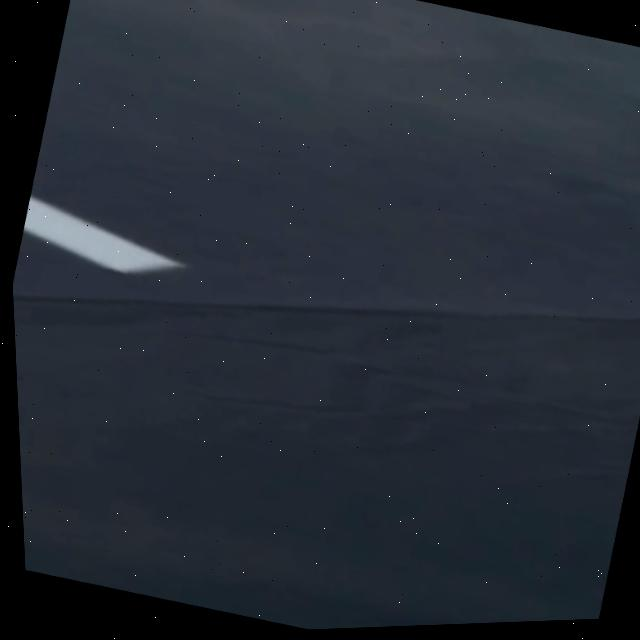center: (23, 193, 183, 271)
